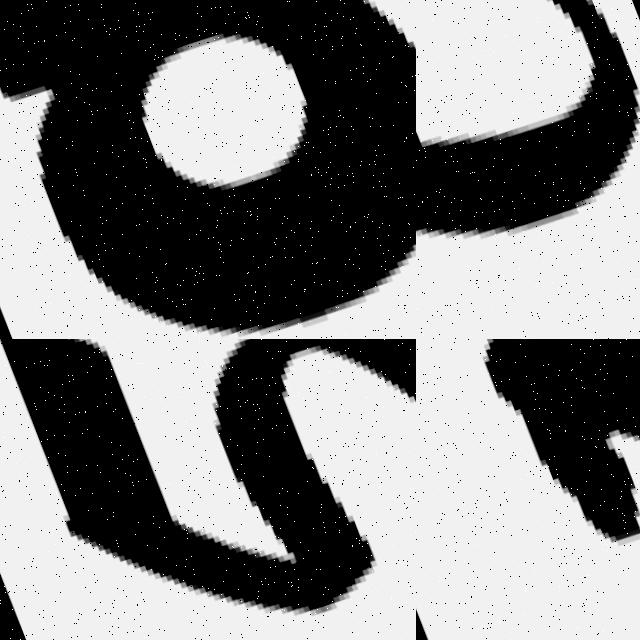5: (0, 339, 416, 640)
E: (416, 0, 640, 232)
Q: (0, 0, 416, 339)
R: (416, 339, 640, 640)
